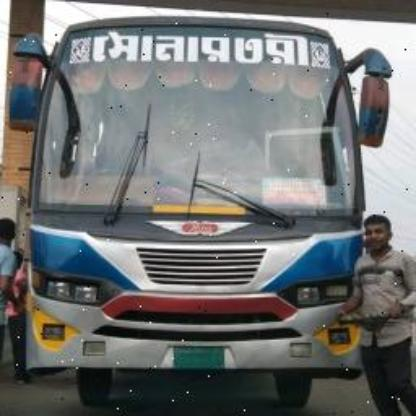bus: (14, 15, 380, 388)
